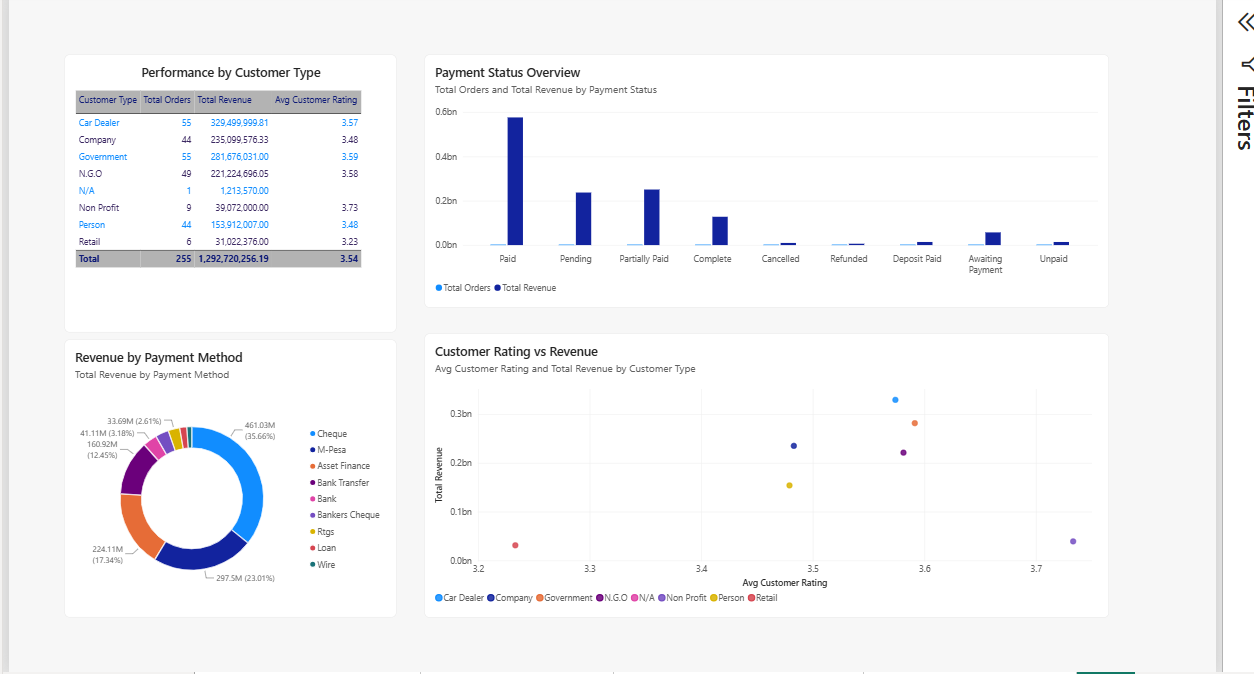

Layout of this report page (visuals, bound fields, positions):
{"tool":"powerbi","page":{"name":"Customers & Payments","canvas":[1920,1080],"ordinal":2},"visuals":[{"type":"tableEx","title":"Performance by Customer Type","fields":{"Values":["CarSalesFacts (2).Customer Type","CarSalesFacts (2).Total Orders","CarSalesFacts (2).Total Revenue","CarSalesFacts (2).Avg Customer Rating"]},"box":[89.1,99,527.8,442.1],"z":0},{"type":"donutChart","title":"Revenue by Payment Method","fields":{"Category":["CarSalesFacts (2).Payment Method"],"Y":["CarSalesFacts (2).Total Revenue"]},"box":[89.1,550.9,527.8,442.1],"z":1},{"type":"clusteredColumnChart","title":"Payment Status Overview","fields":{"Category":["CarSalesFacts (2).Payment Status"],"Y":["CarSalesFacts (2).Total Orders","CarSalesFacts (2).Total Revenue"]},"box":[659.8,99,1088.7,402.5],"z":2},{"type":"scatterChart","title":"Customer Rating vs Revenue","fields":{"Series":["CarSalesFacts (2).Customer Type"],"X":["CarSalesFacts (2).Avg Customer Rating"],"Y":["CarSalesFacts (2).Total Revenue"]},"box":[659.8,541,1088.7,452],"z":3}]}

Visuals, with their boxes on the page's 1920x1080 design canvas (x1, y1, x2, y2). These are canvas units, not pixel positions in the 1254x674 screenshot, which may show the page scaled, cropped or inside an application window:
"Performance by Customer Type" tableEx: [89,99,617,541]
"Revenue by Payment Method" donutChart: [89,551,617,993]
"Payment Status Overview" clusteredColumnChart: [660,99,1748,502]
"Customer Rating vs Revenue" scatterChart: [660,541,1748,993]
